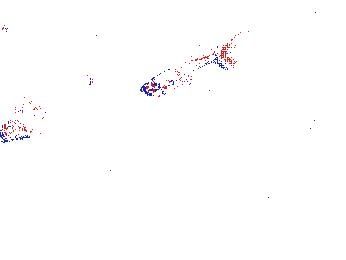X-ray fish: (1, 101, 53, 145)
glassfish: (224, 100, 329, 168)
red belly glassfish: (1, 21, 13, 38)
redtail glassfish: (137, 34, 234, 99)
siberian prawn: (32, 5, 80, 23)
